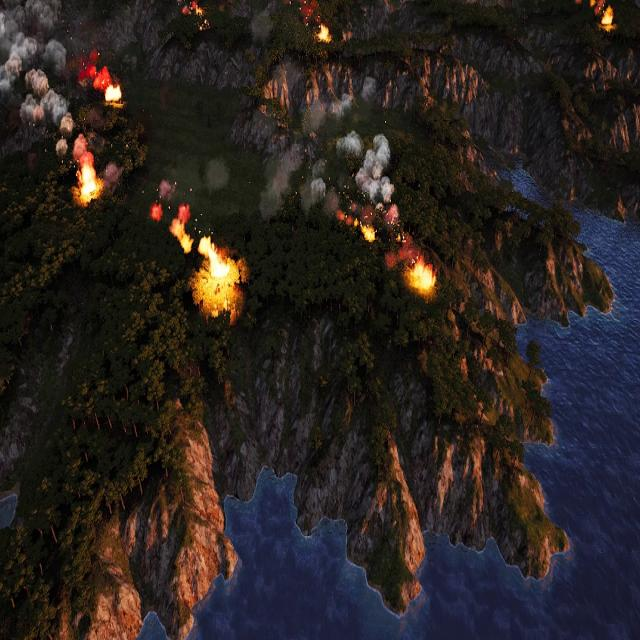fire: (198, 237, 241, 317), (84, 66, 122, 104), (77, 158, 101, 202), (180, 0, 210, 33), (411, 261, 436, 292), (174, 224, 193, 254), (105, 83, 122, 104), (600, 3, 613, 27), (362, 225, 374, 243), (318, 25, 330, 42)
smoke: (259, 76, 400, 317), (0, 0, 91, 157), (339, 130, 396, 216), (149, 180, 191, 255), (204, 158, 228, 195), (149, 202, 161, 222)
